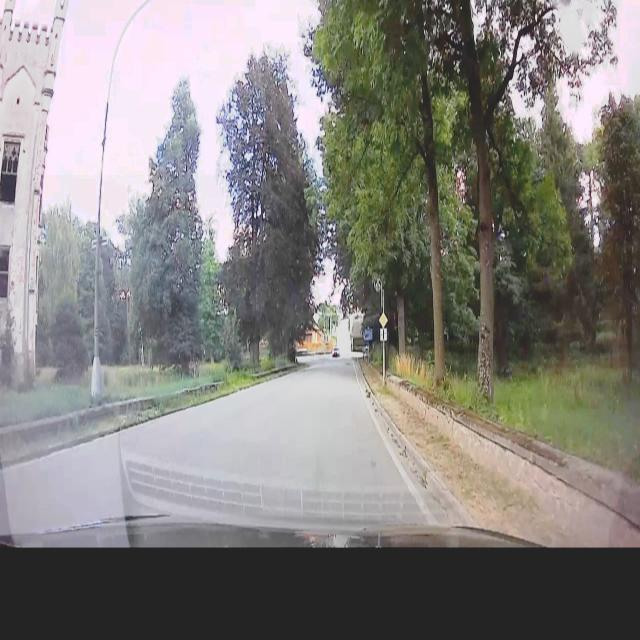Priority road: (378, 310, 389, 328)
